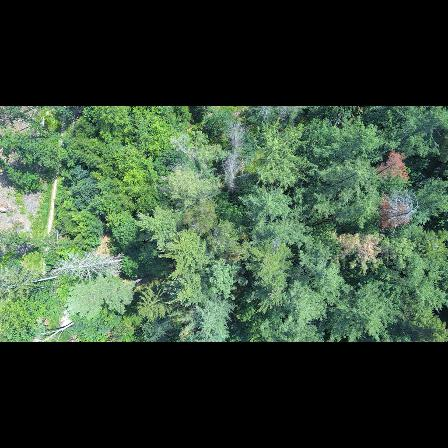Dead: (58, 248, 130, 281), (219, 116, 249, 193), (378, 185, 422, 237)
